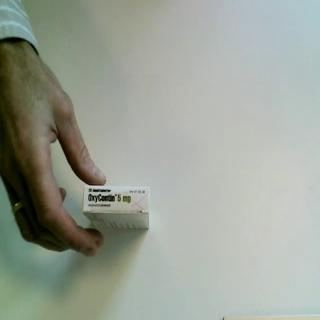oxycontin5mg: (82, 183, 152, 233)
